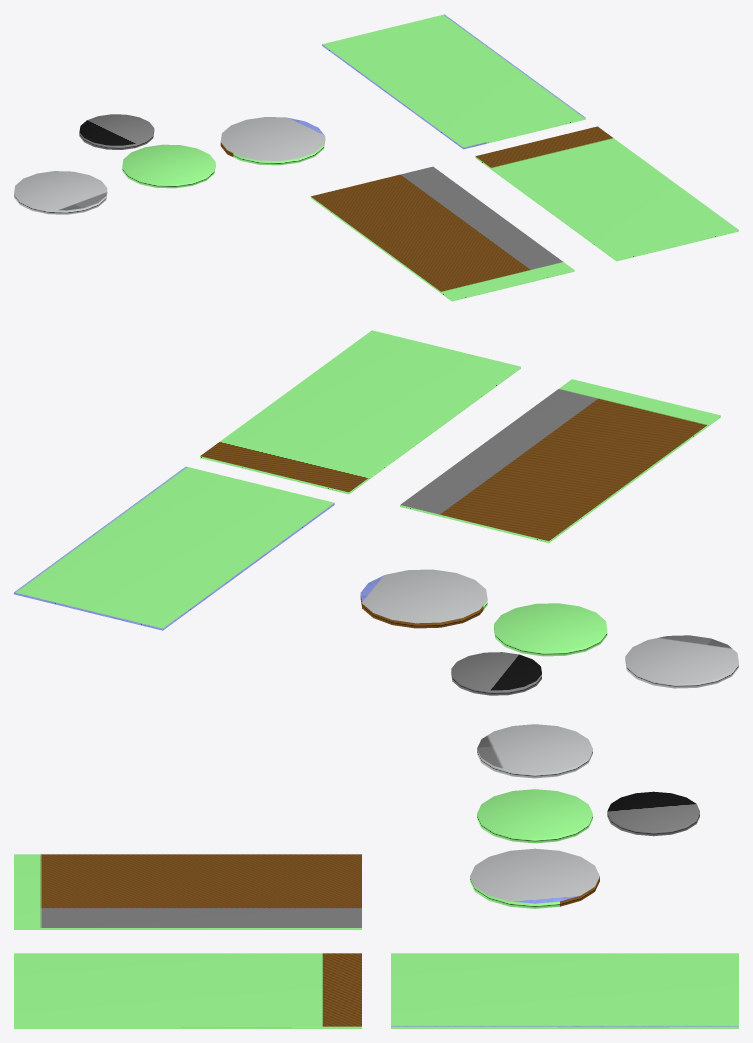
File: YeongYuSeong_Money.fbx
3 renders of one model, top to bottom at view 1: azimuth 30°, elevation 25°; view 2: azimuth 150°, elevation 25°; view 3: azimuth 270°, elevation 25°, orthographic. The views are drawn at different scales.
Parts seen in each view (by area): view 1: dollar10, dollar2, dollar5, dollar, coin50cent, coin20cent, coin10cent; view 2: dollar2, dollar5, dollar10, dollar, coin20cent, coin50cent, coin10cent; view 3: dollar2, dollar5, dollar10, dollar, coin20cent, coin50cent, coin10cent.
Part boxes in pixels (x1,y1,x2,y2): dollar10: (310, 166, 574, 301); dollar2: (322, 14, 585, 149); dollar5: (475, 126, 738, 261); dollar: (220, 117, 325, 165); coin50cent: (14, 171, 107, 214); coin20cent: (122, 144, 215, 188); coin10cent: (79, 114, 154, 149); dollar2: (14, 466, 334, 630); dollar5: (200, 330, 520, 494); dollar10: (400, 379, 720, 543); dollar: (360, 569, 487, 628); coin20cent: (494, 603, 607, 656); coin50cent: (625, 635, 738, 688); coin10cent: (451, 652, 541, 695); dollar2: (391, 953, 738, 1028); dollar5: (14, 953, 361, 1028); dollar10: (14, 854, 361, 929); dollar: (470, 848, 599, 908); coin20cent: (477, 789, 592, 843); coin50cent: (477, 724, 592, 778); coin10cent: (607, 791, 699, 836).
Size of the model in its own units: 0.3109 by 0.00361 by 0.3124.
